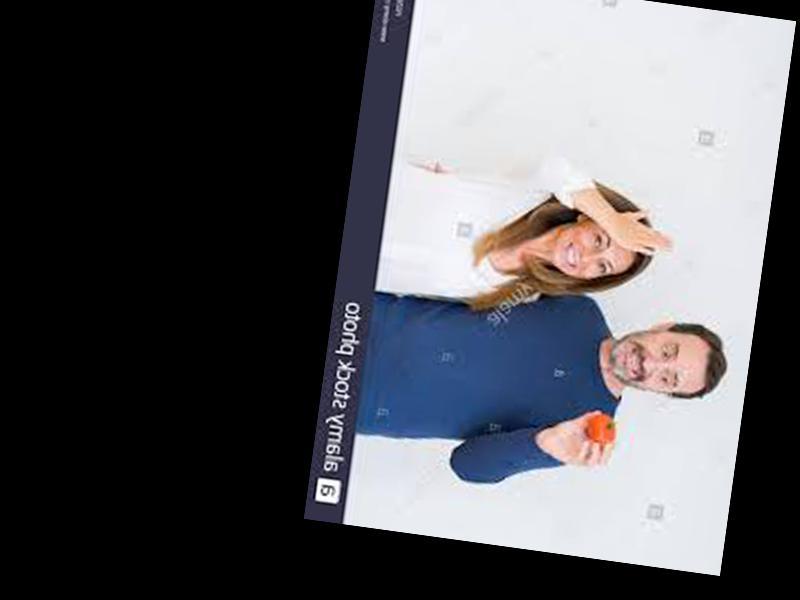Tomato: (586, 413, 620, 444)
